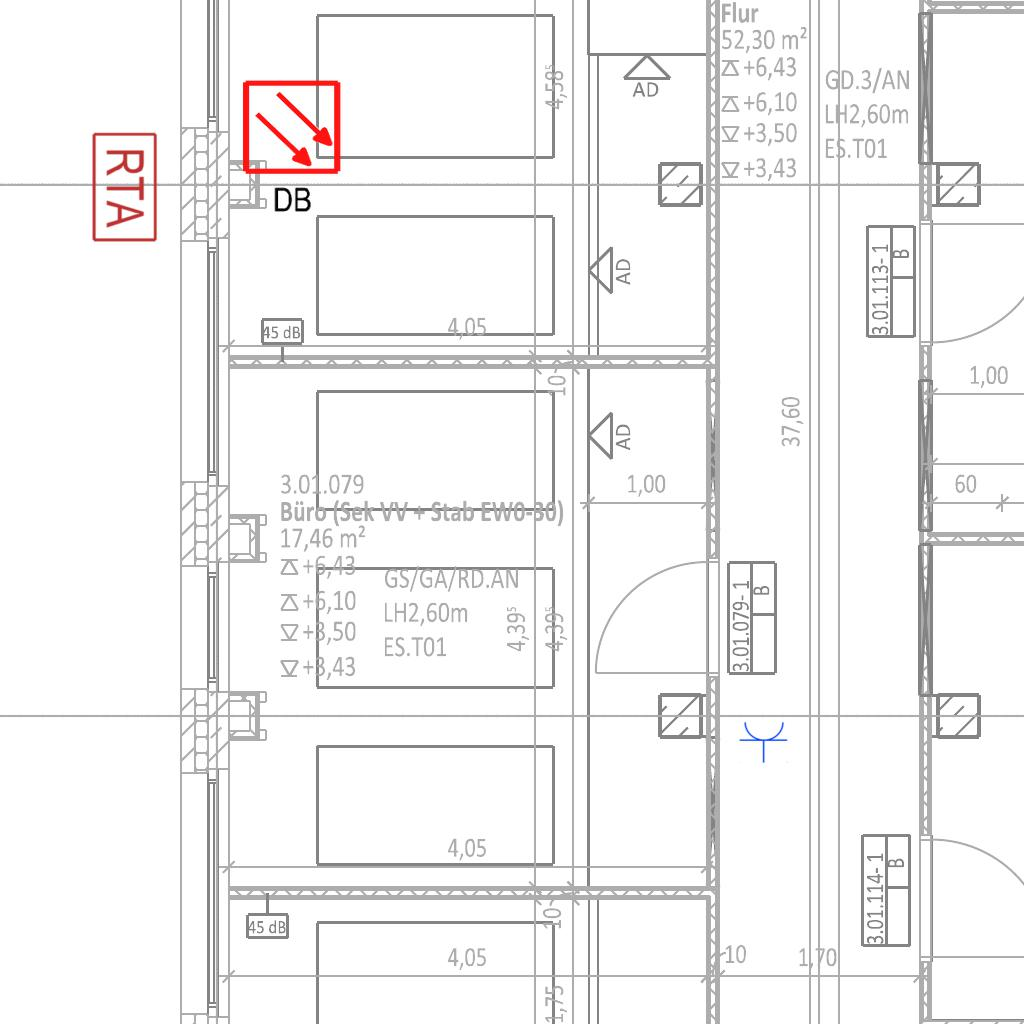DB_Melder_in_Doppelboden_mit_Revisionsoeffnung_mind_40_x_40_cm: (236, 73, 350, 222)
Ruf-und_Abstelltaster: (90, 129, 159, 243)
Schukosteckdose_einfach: (739, 720, 789, 763)
